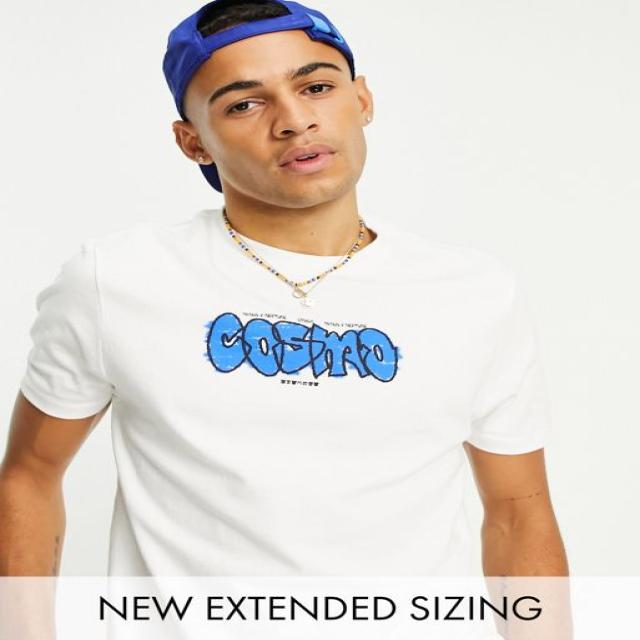tshirt: (21, 207, 549, 577)
